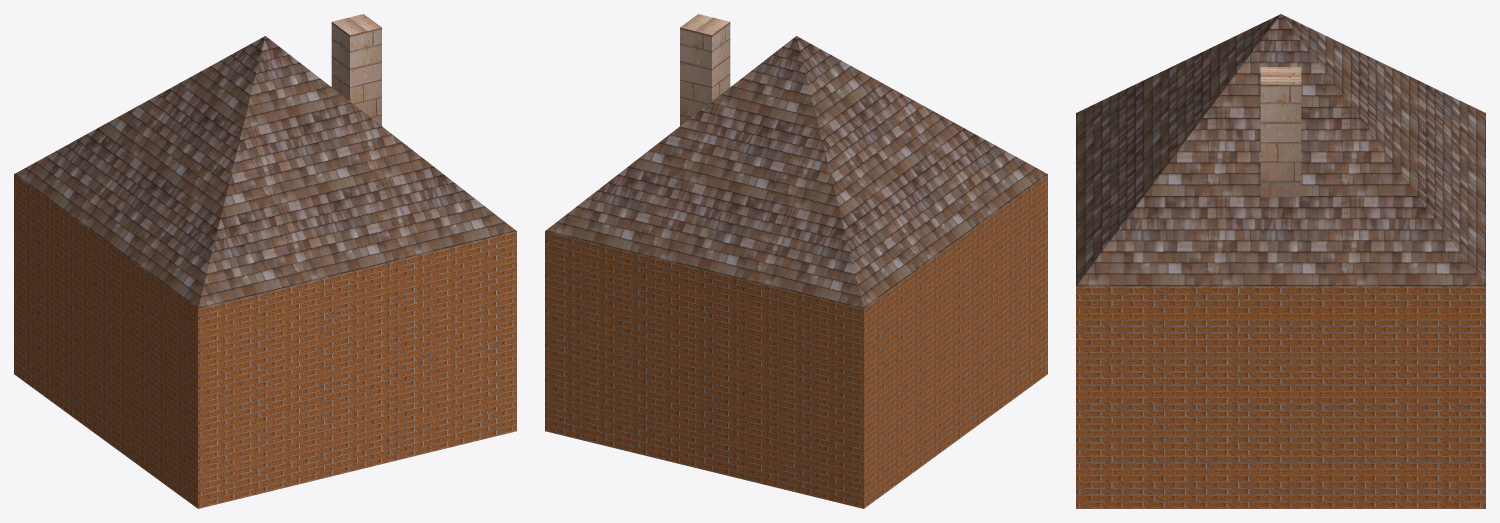
3 views of the same model, side by side, from view 1: azimuth 30°, elevation 25°; view 2: azimuth 150°, elevation 25°; view 3: azimuth 270°, elevation 25° (orthographic). The views are drawn at different scales.
Visible parts, largest first — view 1: B1; view 2: B1; view 3: B1.
Boxes of the visible parts, bbox=[...] form: B1: bbox=[14, 14, 516, 508]; B1: bbox=[545, 14, 1047, 508]; B1: bbox=[1076, 14, 1485, 508].
Size of the model in its own units: 8.64 by 9.51 by 8.64.
Materials: 3 (3 with a texture image).
